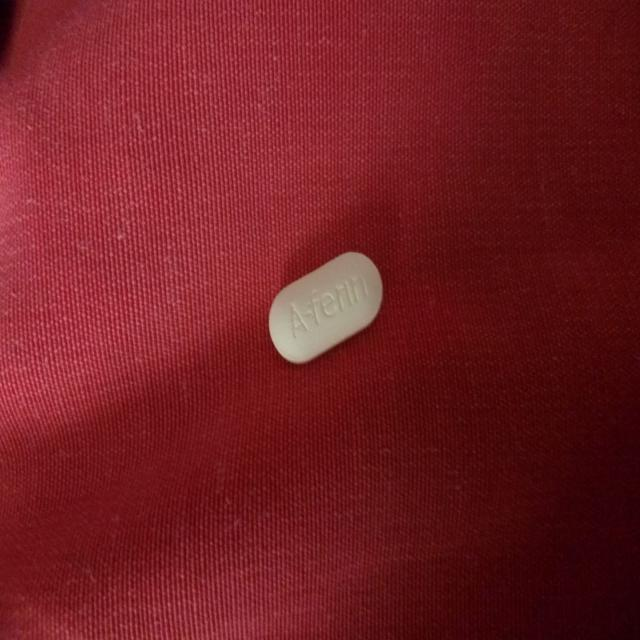pills: (253, 250, 396, 367)
